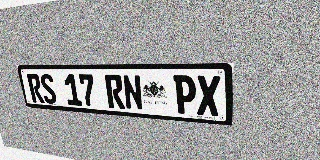1: (63, 74, 82, 106)
7: (77, 74, 97, 107)
N: (122, 75, 143, 111)
P: (173, 75, 196, 115)
R: (104, 74, 125, 109), (26, 74, 45, 103)
S: (39, 74, 58, 104)
X: (196, 75, 220, 116)
